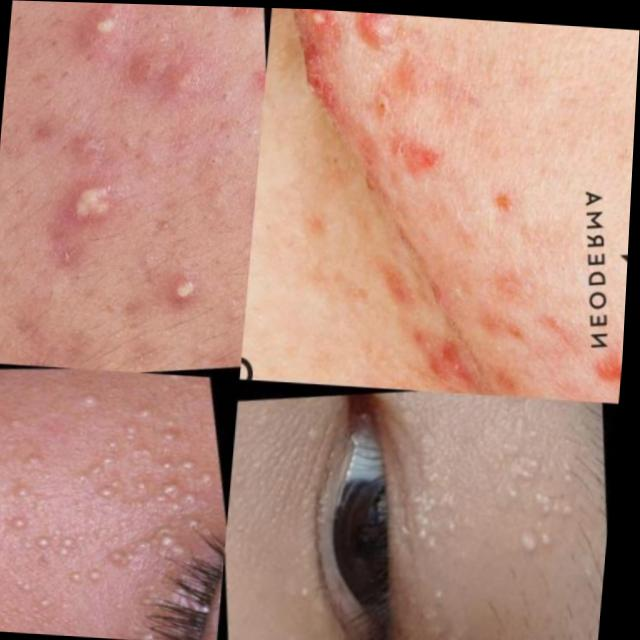Acne: (218, 29, 589, 415), (0, 31, 209, 346), (0, 381, 161, 640), (411, 447, 546, 640)
